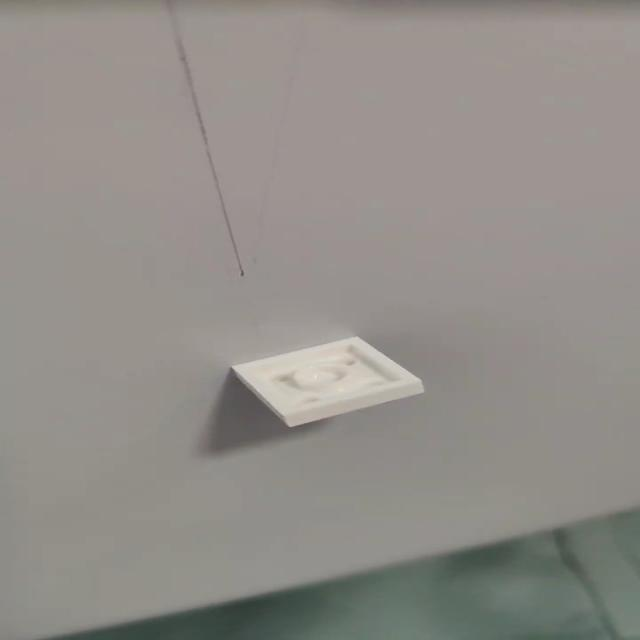C2x2x0: (247, 343, 428, 432)
